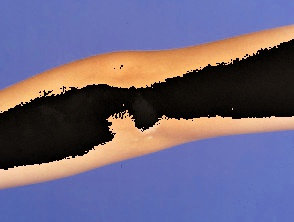vitiligo: (0, 25, 294, 194)
